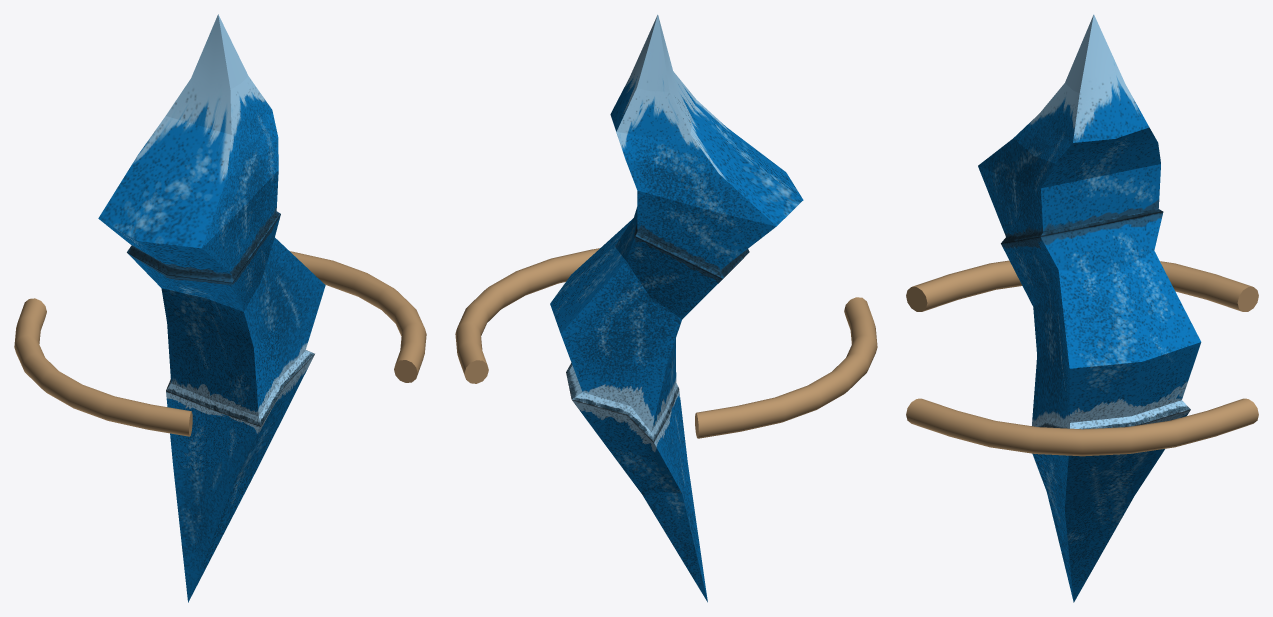
Rendered from Crystal.fbx.
The picture shows the model from 3 angles, left to right: view 1: azimuth 30°, elevation 25°; view 2: azimuth 150°, elevation 25°; view 3: azimuth 270°, elevation 25°; orthographic projection. The views are drawn at different scales.
Parts seen in each view (by area): view 1: Artifact, Handle; view 2: Artifact, Handle; view 3: Artifact, Handle.
Part boxes in pixels (left/top/right/bottom): Artifact: left=98, top=14, right=325, bottom=602; Handle: left=14, top=251, right=426, bottom=436; Artifact: left=550, top=14, right=803, bottom=602; Handle: left=455, top=248, right=877, bottom=438; Artifact: left=978, top=14, right=1201, bottom=602; Handle: left=906, top=260, right=1258, bottom=456.
Size of the model in its own units: 97.74 by 149 by 78.35.
